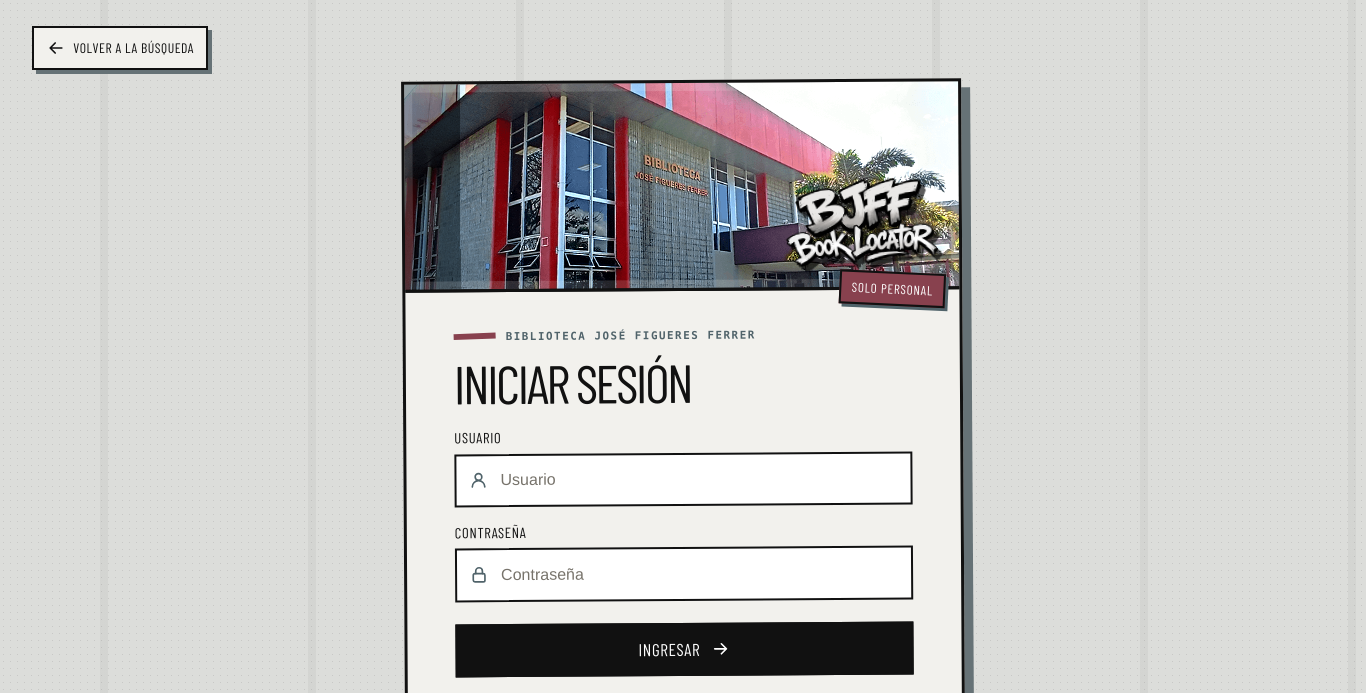
flujo administrativo › advierte el estado y los datos afectados antes de eliminar un esquema
The width and height of the screenshot is (1366, 693).
Type "admin" into the field labelled "Usuario" at [684, 479], box [454,451,913,508]
Type "admin" into the password field labelled "Contraseña" at [684, 574], box [455,546,913,602]
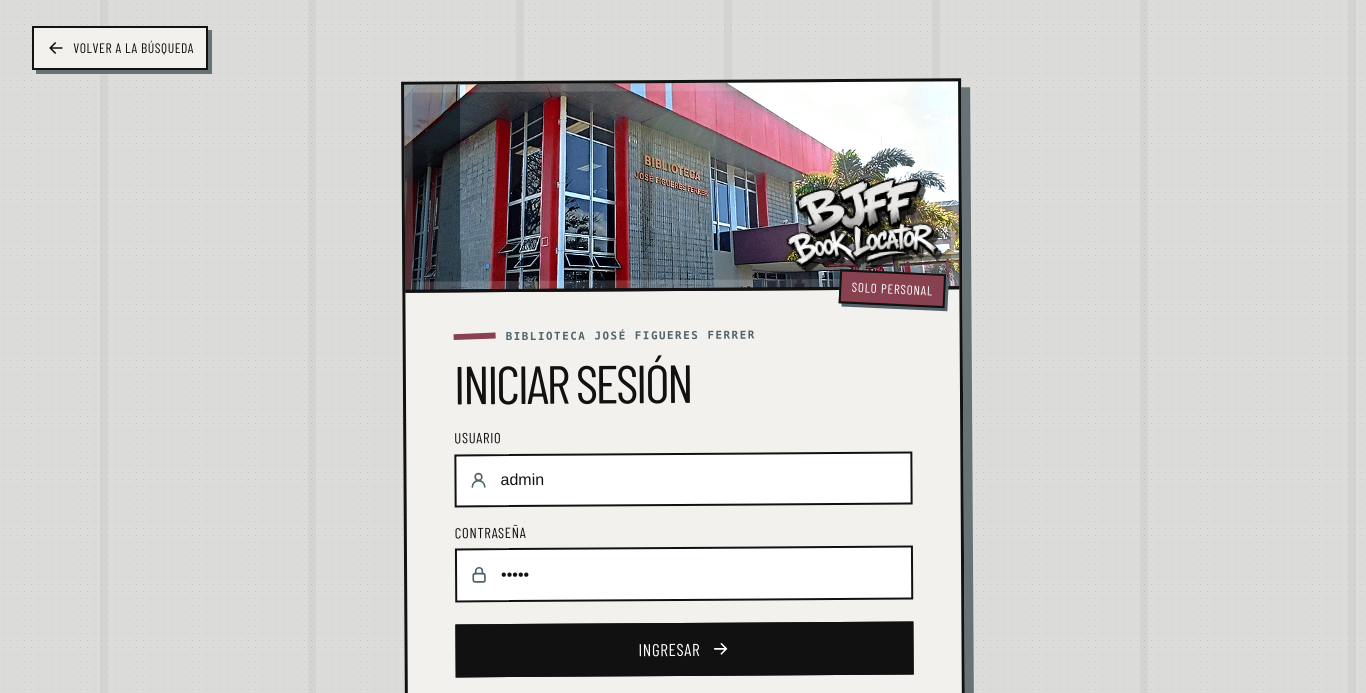
Click the button "Ingresar" at [685, 649], box [455,621,914,678]
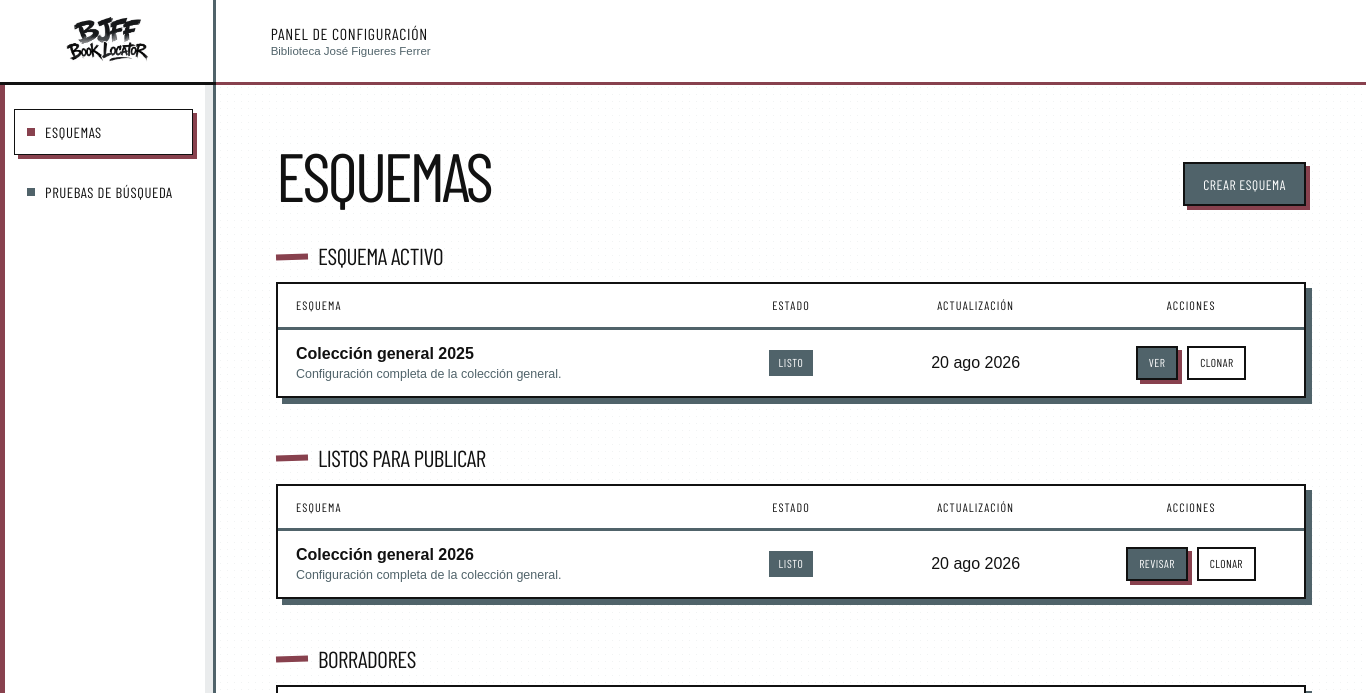
Expected: the heading "Esquemas" is shown, [276,145,491,206]
Click the link "Ver" at [1157, 363], box [1136,346,1178,380]
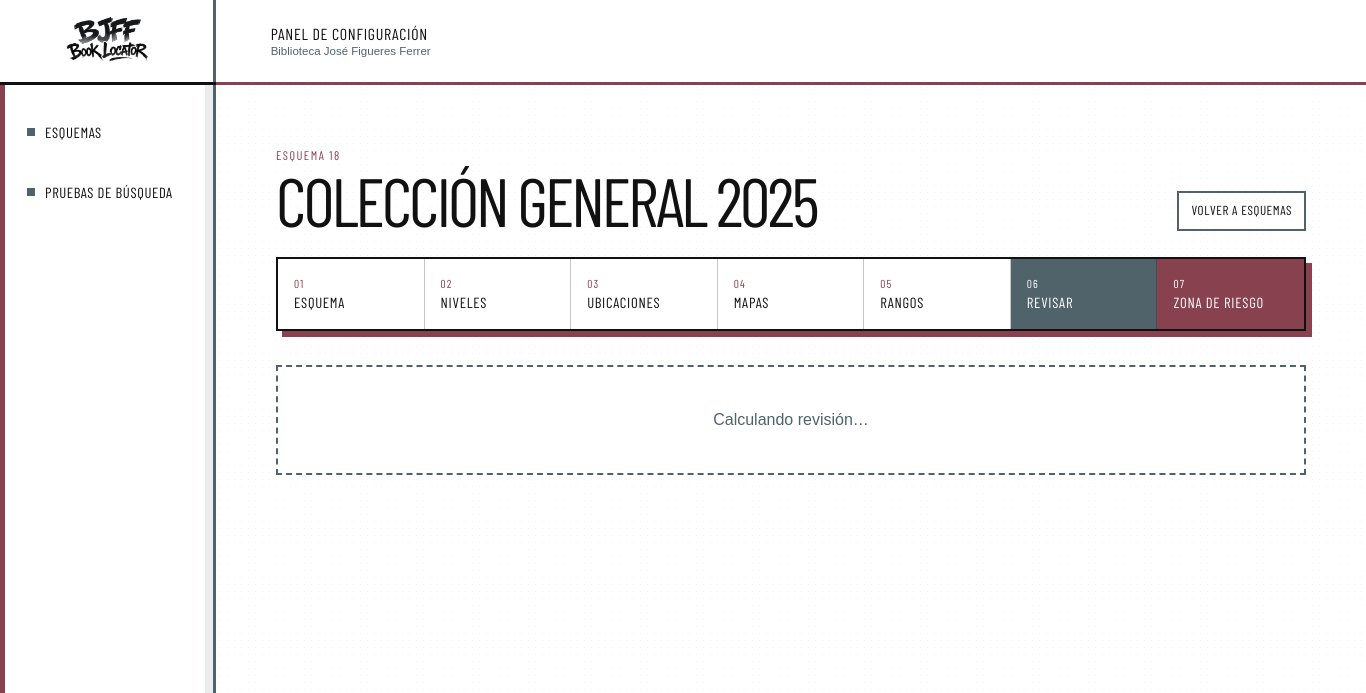
Click the link "07 Zona de riesgo" at [1231, 294], box [1157,259,1304,329]
(page scrolled)
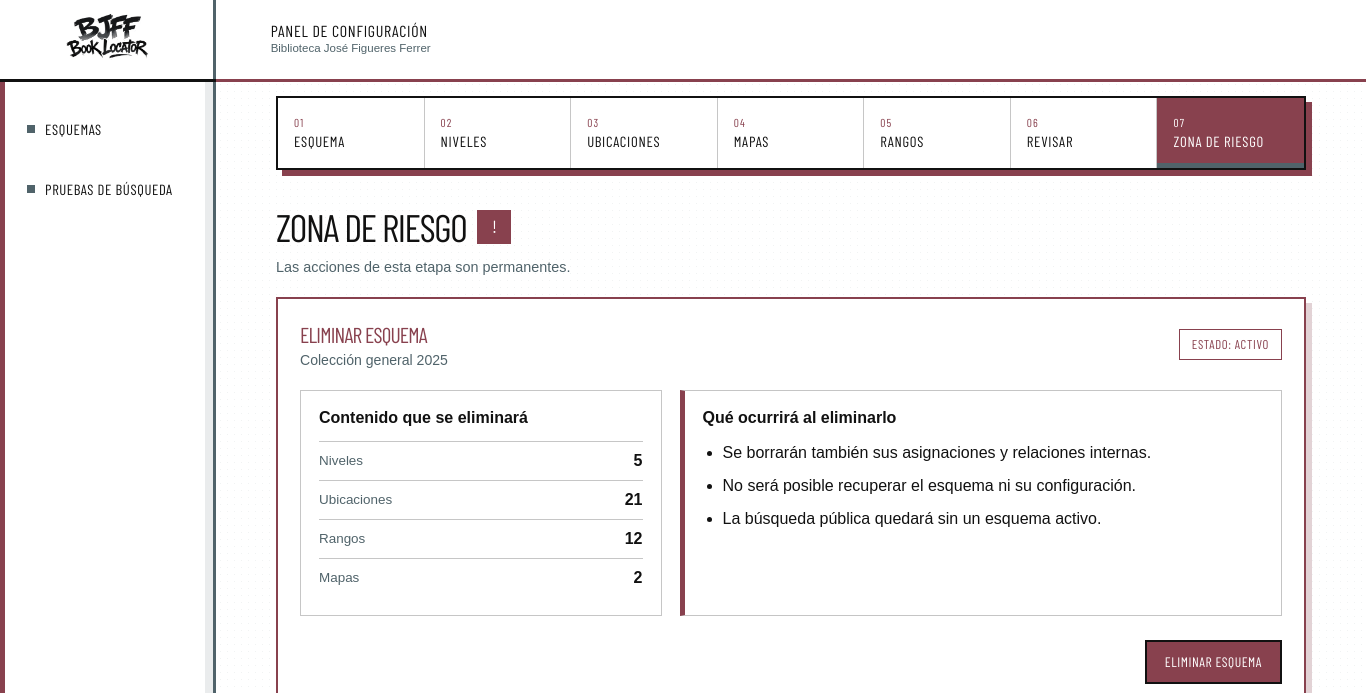
Click the button "Eliminar esquema" at [1213, 662], box [1145,640,1282,684]
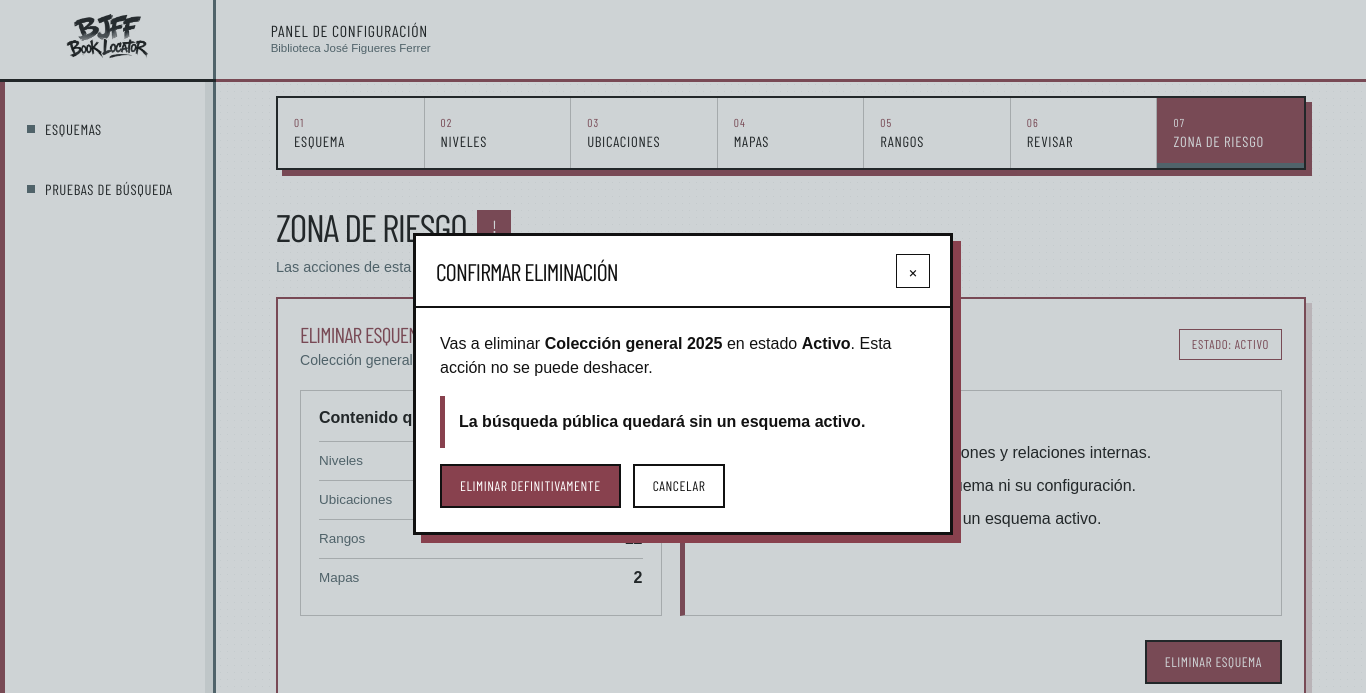
Expected: the text "Activo" is shown, [802,335,851,352]
Expected: the text "La búsqueda pública quedará sin un esquema activo." is shown, [440,396,926,448]
Expected: the text "Esta acción no se puede deshacer" is shown, [440,335,892,376]
Click the button "Eliminar definitivamente" at [530, 486], box [440,464,621,508]
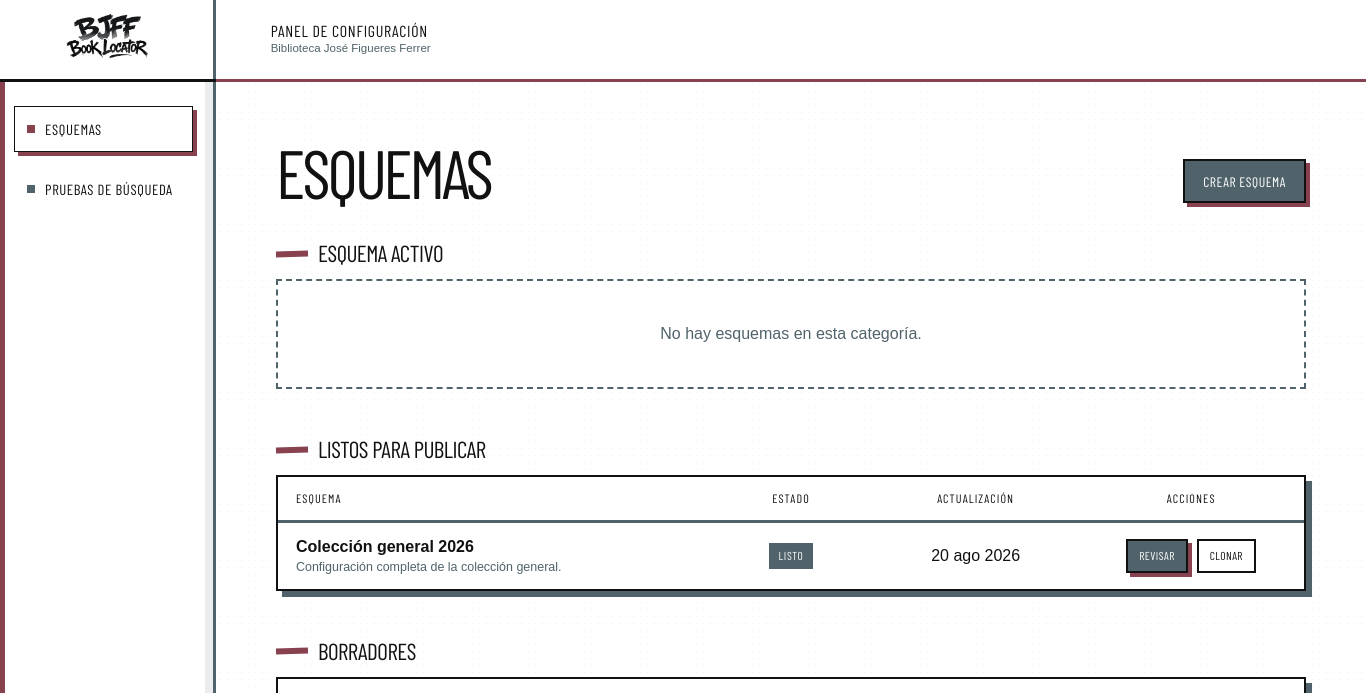
Expected: the heading "Esquemas" is shown, [276,142,491,204]
Expected: the text "Colección general 2025" is gone
